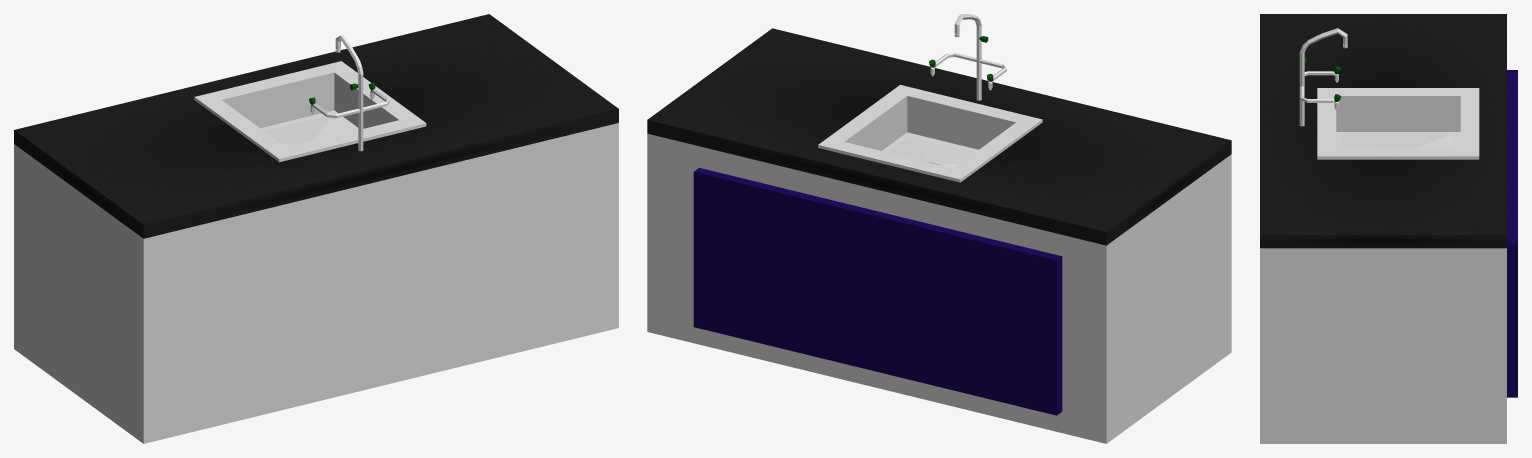
File: sink.fbx
3 renders of one model, left to right at view 1: azimuth 30°, elevation 25°; view 2: azimuth 150°, elevation 25°; view 3: azimuth 270°, elevation 25°, orthographic. The views are drawn at different scales.
Visible parts, largest first — view 1: sinkdesk, sink, pCylinder1; view 2: sinkdesk, cabinetdoor1, cabinetdoor2, sink, pCylinder1; view 3: sinkdesk, sink, cabinetdoor2, cabinetdoor1, pCylinder1.
Part boxes in pixels (box(x1,y1,x2,y2)): sinkdesk: box(14, 14, 618, 443); sink: box(194, 61, 426, 162); pCylinder1: box(335, 35, 363, 151); sinkdesk: box(647, 28, 1231, 443); cabinetdoor1: box(874, 212, 1062, 415); cabinetdoor2: box(693, 167, 879, 370); sink: box(818, 85, 1042, 182); pCylinder1: box(954, 14, 981, 100); sinkdesk: box(1260, 14, 1506, 443); sink: box(1317, 88, 1479, 159); cabinetdoor2: box(1507, 157, 1517, 397); cabinetdoor1: box(1507, 70, 1517, 156); pCylinder1: box(1299, 28, 1347, 126).
Size of the model in its own units: 3.23 by 2.08 by 1.59.
